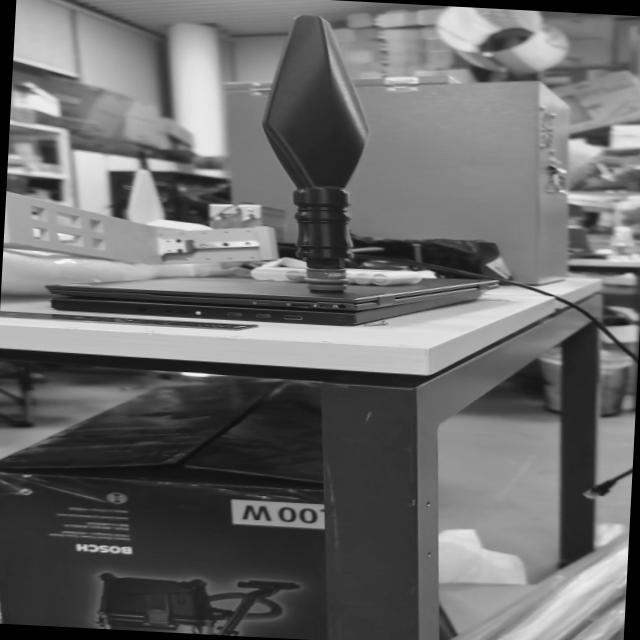base: (298, 264, 352, 296)
